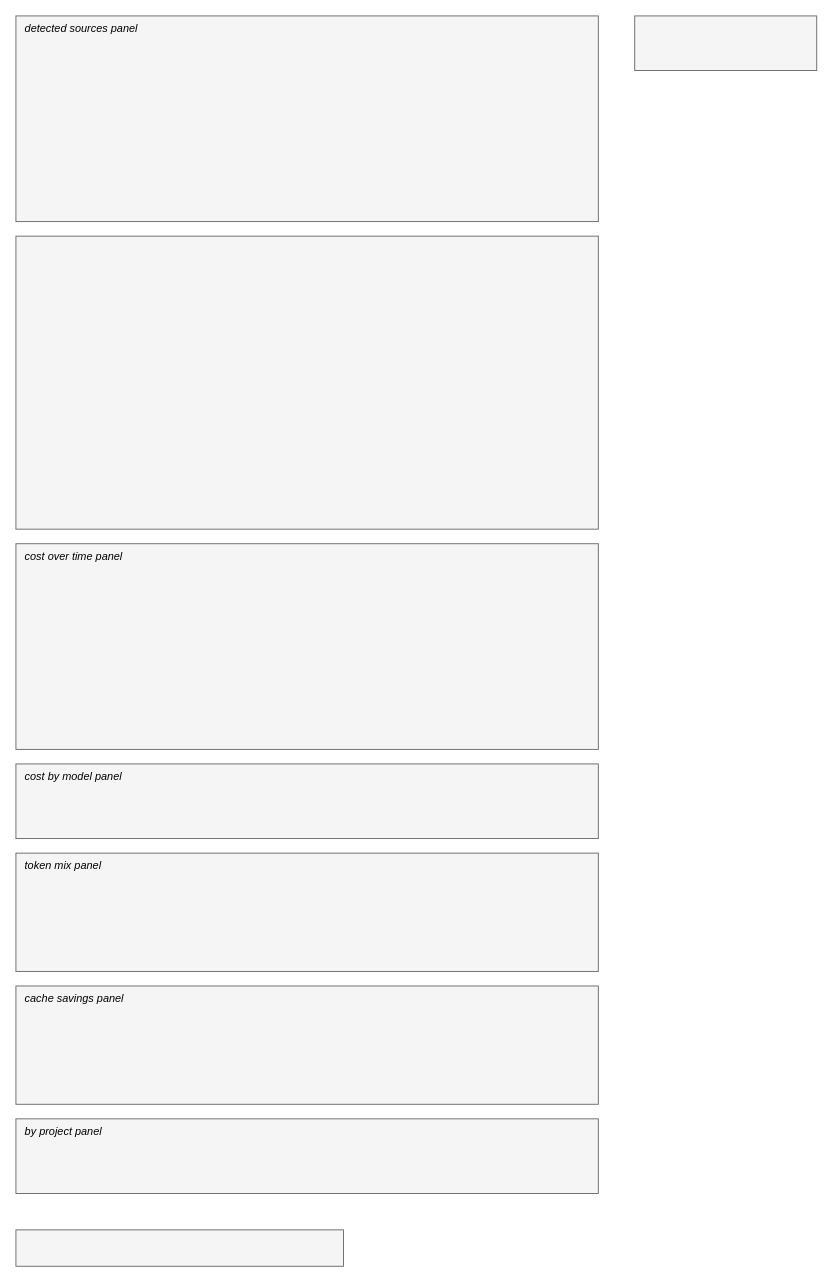
This 833x1282 diagram has some shape labels left out. The shapes that lost their labels are listed below. From the top down, each one's centre as x and y in pixels, then its label:
At point 725,43: "Other".
At point 306,382: "KPI row".
At point 179,1247: "Legend: each box is a region of the screen, its own view holds the shapes".
